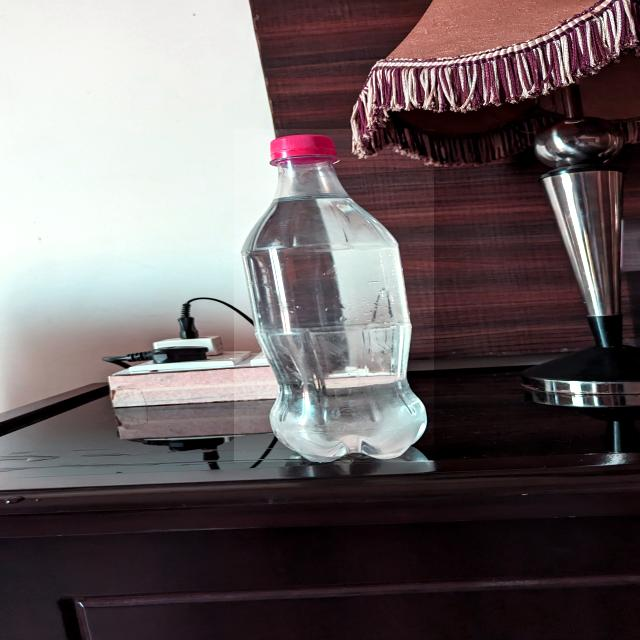full-bottle: (234, 129, 434, 462)
